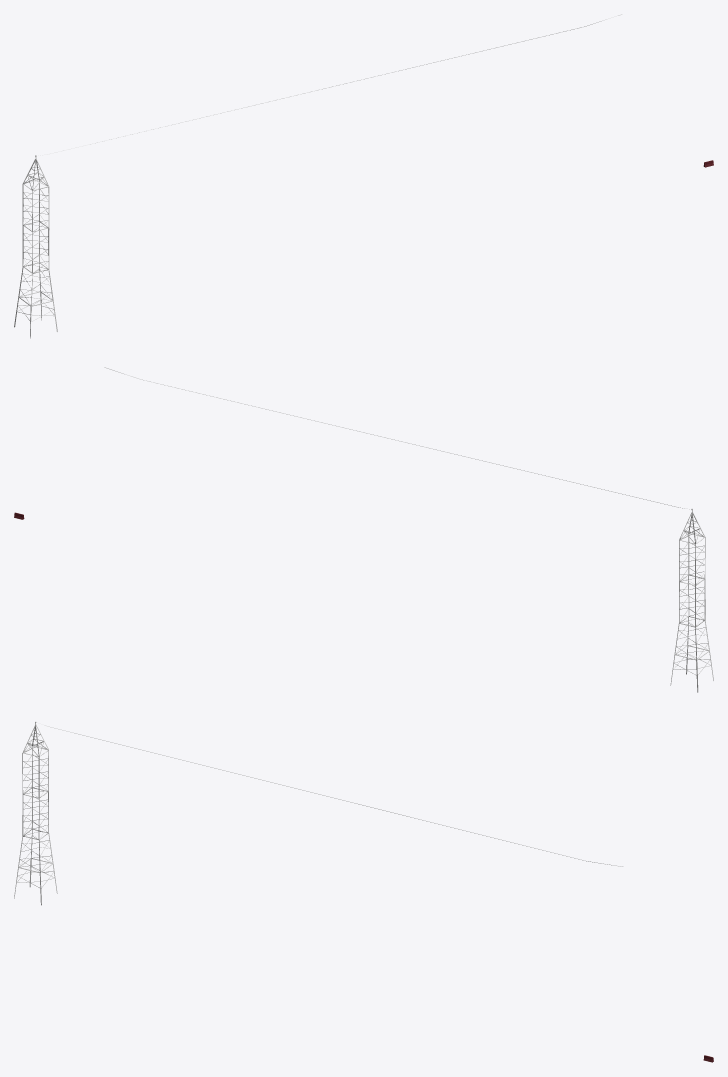
File: BLACK BARRIER.fbx
3 renders of one model, top to bottom at view 1: azimuth 30°, elevation 25°; view 2: azimuth 150°, elevation 25°; view 3: azimuth 330°, elevation 25°, orthographic.
Parts seen in each view (by area): view 1: model_1; view 2: model_1; view 3: model_1.
Part boxes in pixels (<box>): model_1: <box>14,14,622,338</box>; model_1: <box>104,367,713,692</box>; model_1: <box>14,721,623,905</box>.
Size of the model in its own units: 13783 by 3324 by 558.
